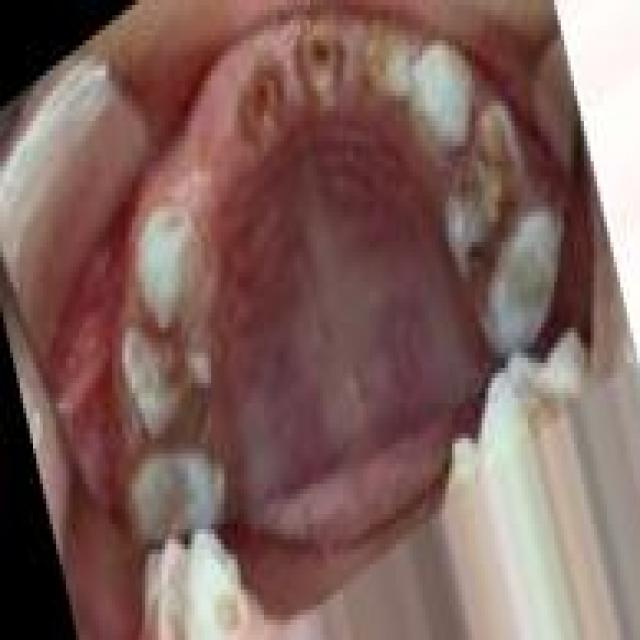caries: (439, 110, 533, 296), (125, 334, 206, 436), (228, 50, 291, 156), (352, 12, 415, 110), (290, 18, 353, 110)
